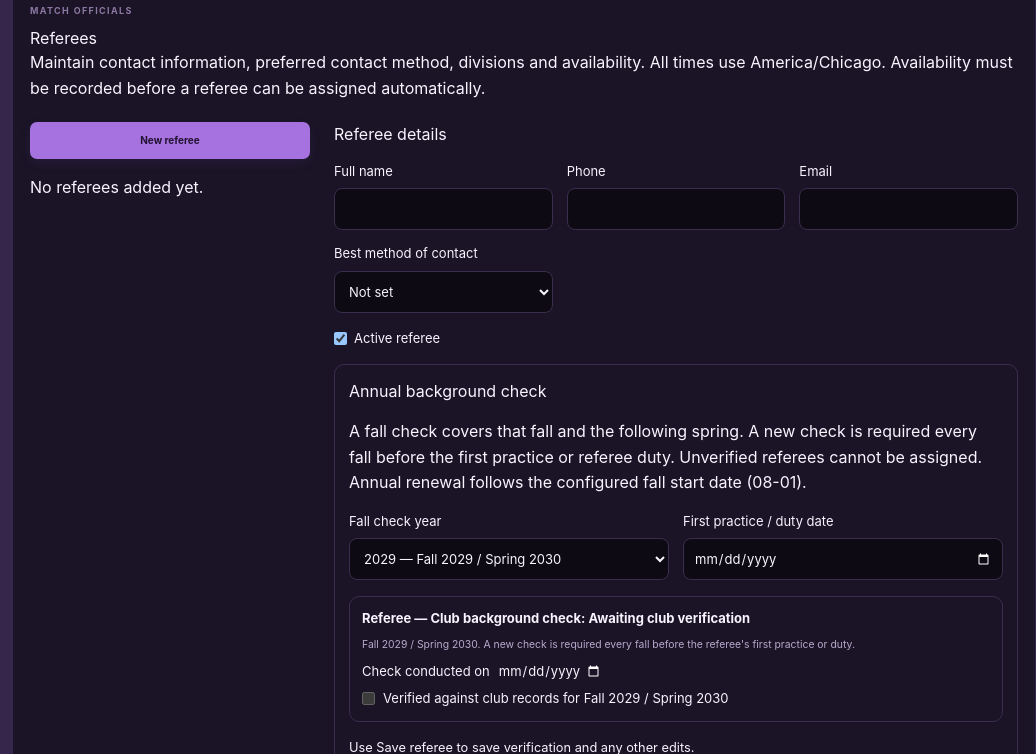
Test: requires usable contact details when a preferred contact method is selected
The width and height of the screenshot is (1036, 754).
Type "Chris Example" into the field named "Referee full name" at [443, 209], box x1=334 y1=188 x2=553 y2=230
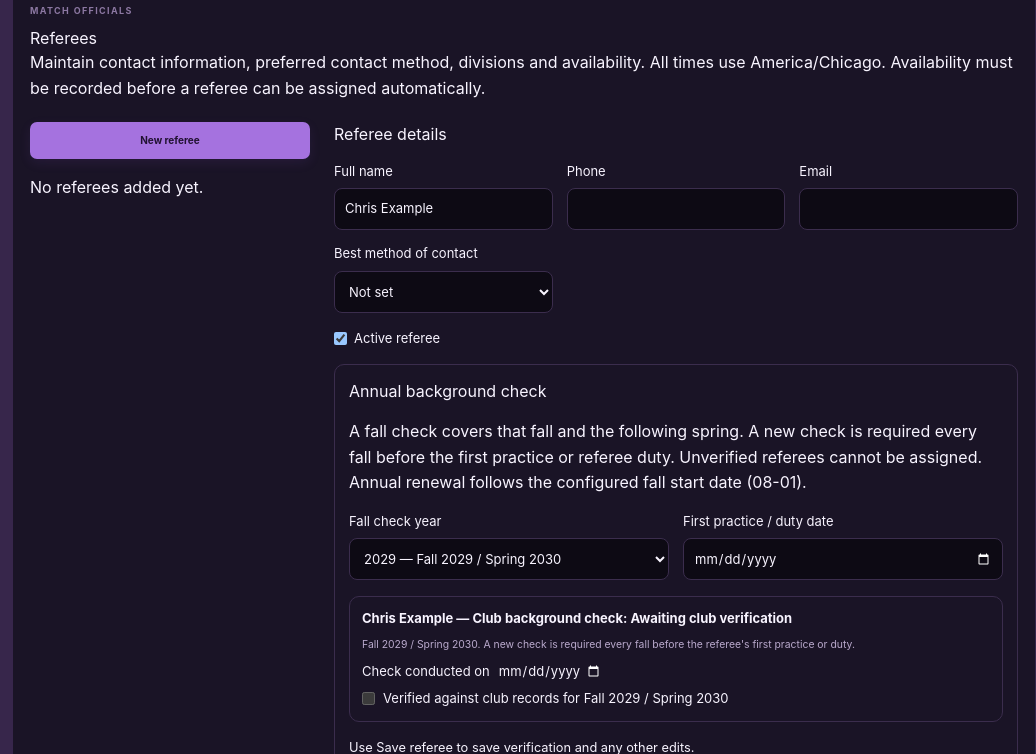
Select "Email" in the dropdown named "Referee preferred contact method" at [443, 292], box x1=334 y1=271 x2=553 y2=313
(page scrolled)
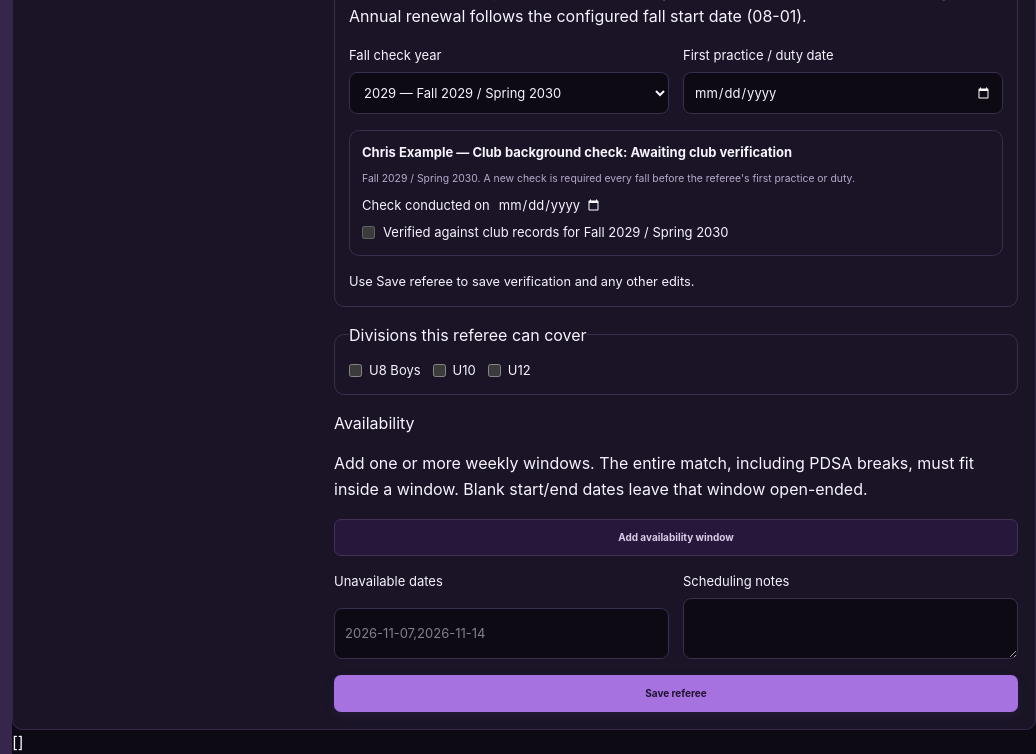
Click the button "Save referee" at [676, 694], box x1=334 y1=675 x2=1018 y2=712
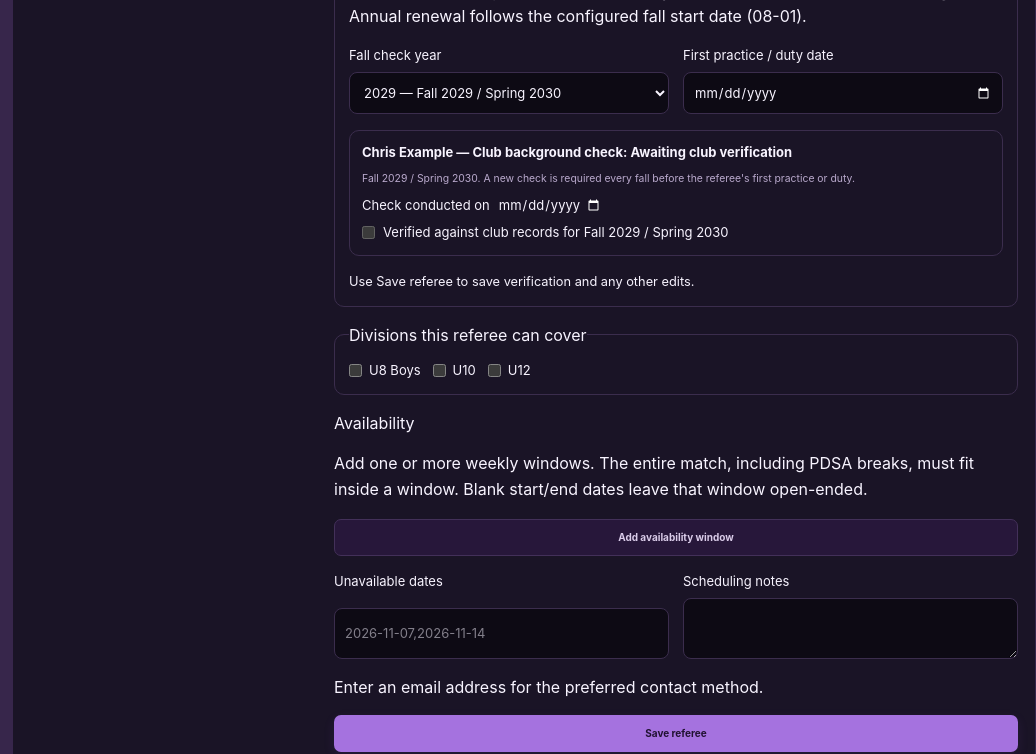
Expected: the message shows "Enter an email address for the preferred contact method", x1=334 y1=677 x2=763 y2=697
